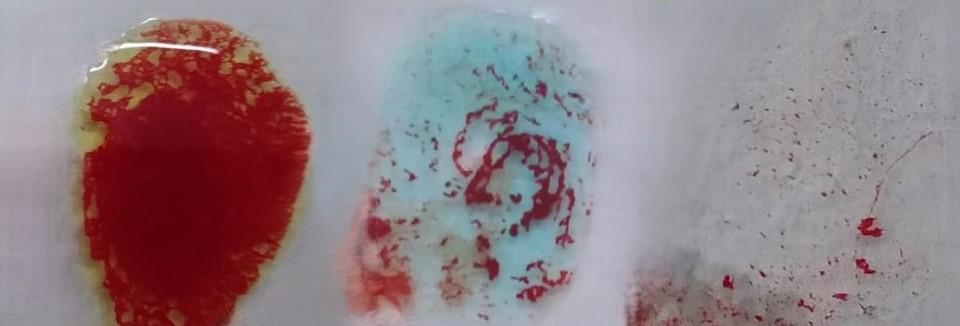A: (357, 18, 579, 326)
B: (76, 18, 309, 326)
D: (669, 18, 943, 326)
